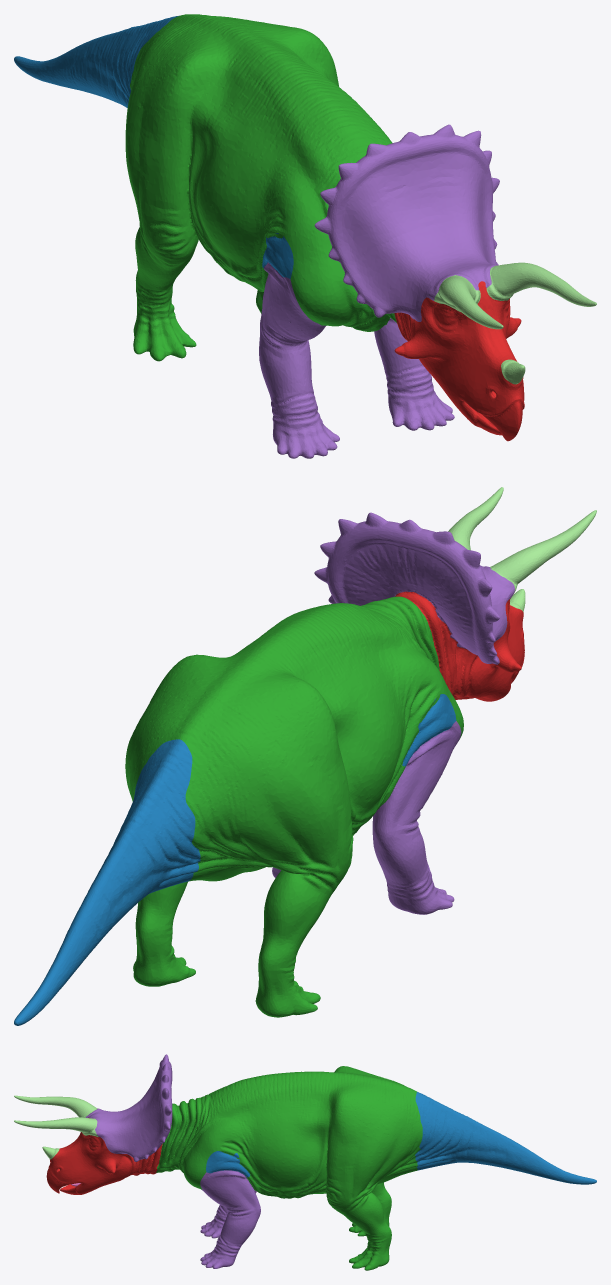
Rendered from SubdividedModelTriceratops.glb.
3 views of the same model, one above another, from view 1: azimuth 30°, elevation 25°; view 2: azimuth 150°, elevation 25°; view 3: azimuth 270°, elevation 25° (orthographic). The views are drawn at different scales.
Visible parts, largest first — view 1: model_part11, model_part9, model_part10, model_part8, model_part0, model_part7, model_part6, model_part5, model_part4; view 2: model_part11, model_part9, model_part0, model_part8, model_part10, model_part5, model_part4, model_part6; view 3: model_part11, model_part0, model_part9, model_part10, model_part7, model_part6, model_part5, model_part3, model_part8.
Part boxes in pixels (x1=…): model_part11: x1=125, y1=14, x2=396, y2=361; model_part9: x1=314, y1=124, x2=499, y2=321; model_part10: x1=394, y1=281, x2=524, y2=441; model_part8: x1=259, y1=262, x2=339, y2=458; model_part0: x1=14, y1=15, x2=179, y2=107; model_part7: x1=374, y1=318, x2=454, y2=430; model_part6: x1=486, y1=262, x2=596, y2=306; model_part5: x1=434, y1=275, x2=503, y2=329; model_part4: x1=262, y1=233, x2=293, y2=279; model_part11: x1=125, y1=596, x2=463, y2=1017; model_part9: x1=314, y1=512, x2=514, y2=664; model_part0: x1=14, y1=739, x2=200, y2=1025; model_part8: x1=372, y1=721, x2=461, y2=914; model_part10: x1=395, y1=591, x2=524, y2=701; model_part5: x1=490, y1=510, x2=596, y2=592; model_part4: x1=402, y1=694, x2=456, y2=766; model_part6: x1=448, y1=487, x2=503, y2=550; model_part11: x1=156, y1=1066, x2=422, y2=1270; model_part0: x1=415, y1=1092, x2=596, y2=1184; model_part9: x1=85, y1=1054, x2=172, y2=1161; model_part10: x1=46, y1=1117, x2=162, y2=1194; model_part7: x1=200, y1=1170, x2=260, y2=1268; model_part6: x1=14, y1=1117, x2=98, y2=1136; model_part5: x1=14, y1=1095, x2=97, y2=1117; model_part3: x1=206, y1=1151, x2=250, y2=1177; model_part8: x1=200, y1=1190, x2=256, y2=1238.
Size of the model in its own units: 0.0262 by 0.0416 by 0.12.
